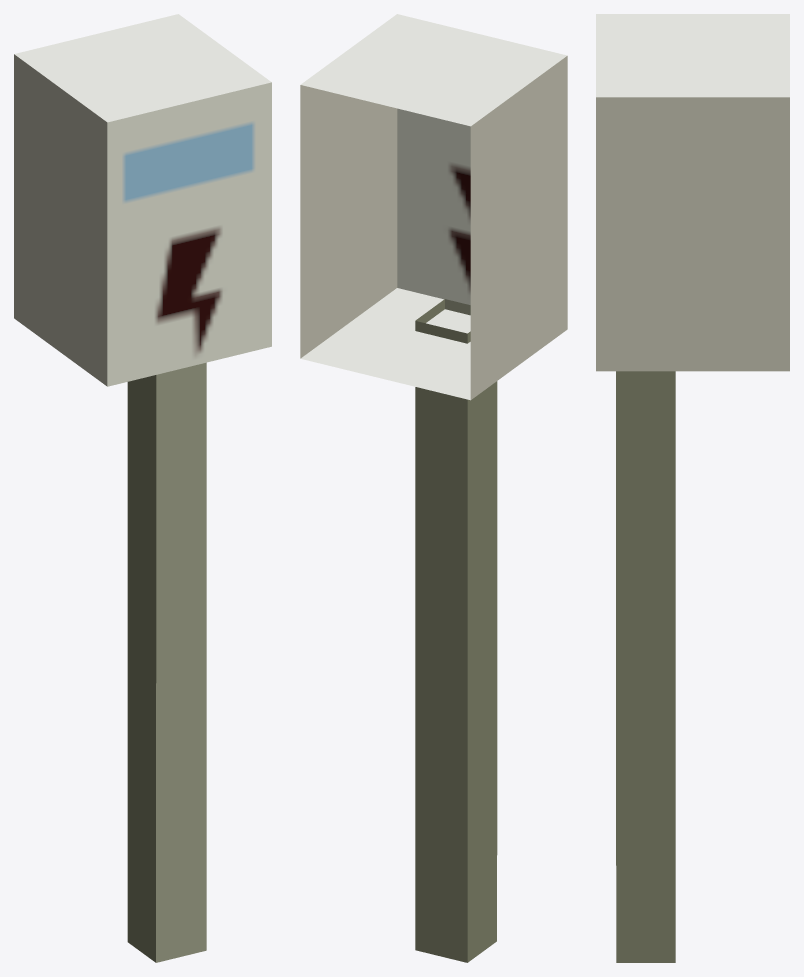
Rendered from SM_PowerBox_06.fbx.
The picture shows the model from 3 angles, left to right: view 1: azimuth 30°, elevation 25°; view 2: azimuth 150°, elevation 25°; view 3: azimuth 270°, elevation 25°; orthographic projection. The views are drawn at different scales.
Parts seen in each view (by area): view 1: SM_PowerBox_06; view 2: SM_PowerBox_06; view 3: SM_PowerBox_06.
Part boxes in pixels (box(x1,y1,x2,y2)): SM_PowerBox_06: box(14, 14, 271, 962); SM_PowerBox_06: box(300, 14, 567, 962); SM_PowerBox_06: box(596, 14, 789, 962).
Bounding box in the file's own units: 0.3573 × 1.79 × 0.3515.
